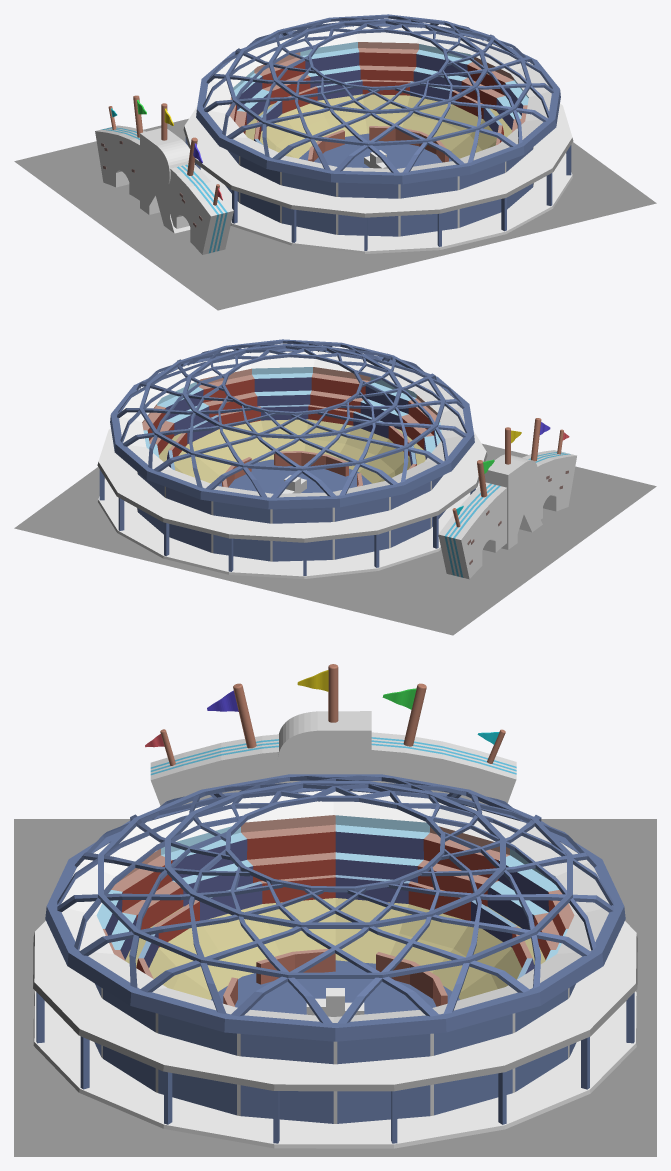
Rendered from STADIUM.fbx.
3 renders of one model, top to bottom at view 1: azimuth 30°, elevation 25°; view 2: azimuth 150°, elevation 25°; view 3: azimuth 270°, elevation 25°, orthographic. The views are drawn at different scales.
Visible parts, largest first — view 1: stadiums.001, stadiums.002, Cube, Text, Cylinder; view 2: stadiums.001, stadiums.002, Cube, Text, Cylinder; view 3: stadiums.001, stadiums.002, Cube, Text, Cylinder.
Boxes of the visible parts, x1,y1,x2,y2 form: stadiums.001: (183, 14, 573, 253); stadiums.002: (14, 118, 656, 310); Cube: (95, 125, 233, 254); Text: (140, 128, 190, 233); Cylinder: (108, 95, 222, 205); stadiums.001: (97, 339, 487, 578); stadiums.002: (14, 443, 656, 635); Cube: (438, 450, 576, 579); Text: (484, 454, 542, 549); Cylinder: (452, 418, 569, 527); stadiums.001: (33, 774, 637, 1148); stadiums.002: (14, 819, 656, 1156); Cube: (150, 732, 516, 805); Text: (275, 711, 371, 783); Cylinder: (145, 664, 505, 765).
Size of the model in its own units: 995 by 264 by 800.
